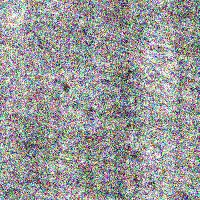crazing: (75, 57, 149, 135)
